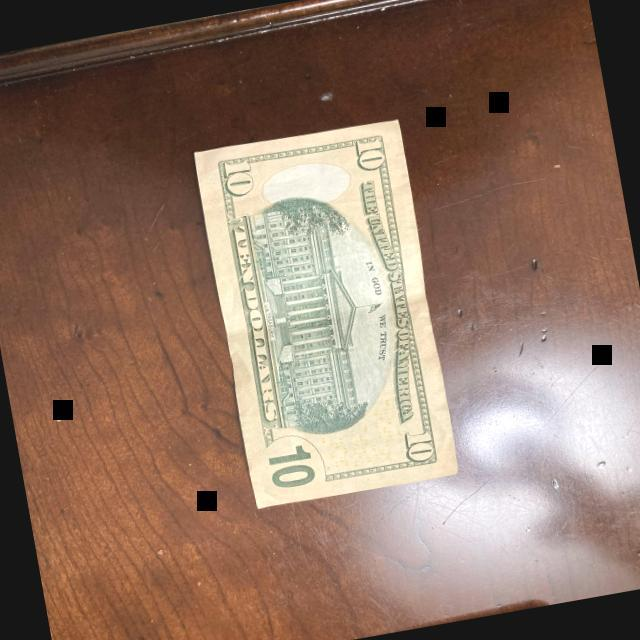ten: (191, 113, 460, 510)
